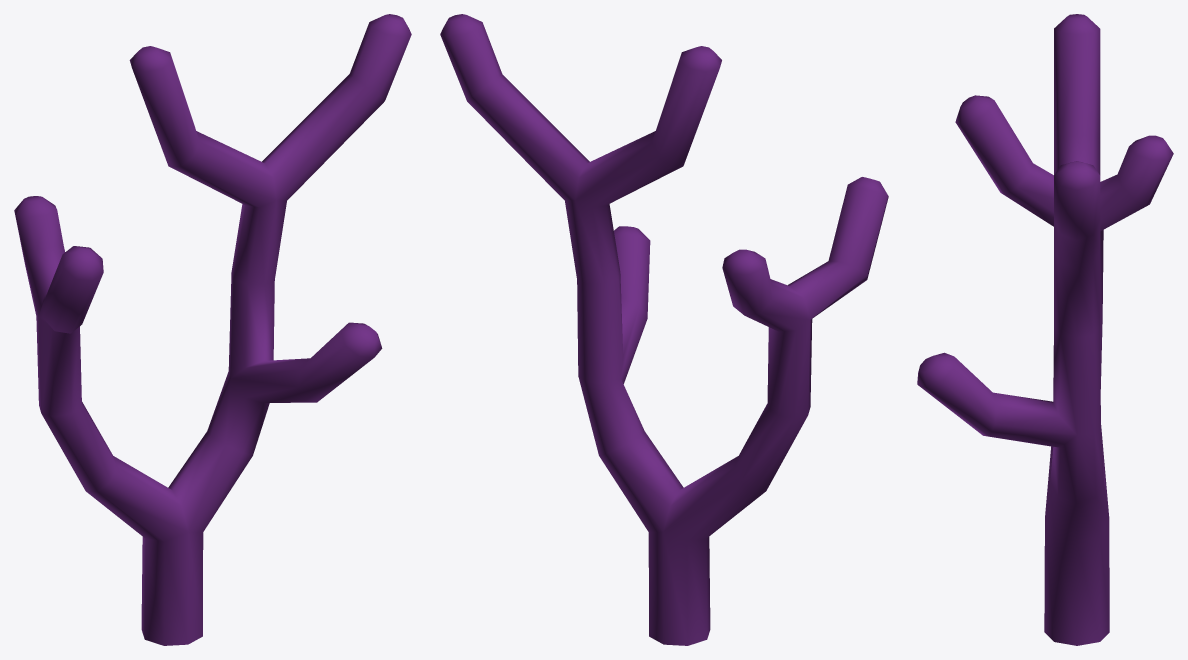
The model's file is Sea_plant_1_1.001.fbx.
3 views of the same model, side by side, from view 1: azimuth 30°, elevation 25°; view 2: azimuth 150°, elevation 25°; view 3: azimuth 270°, elevation 25° (orthographic). The views are drawn at different scales.
Parts seen in each view (by area): view 1: Sea_plant_1_1.001; view 2: Sea_plant_1_1.001; view 3: Sea_plant_1_1.001.
Part boxes in pixels (box(x1,y1,x2,y2)): Sea_plant_1_1.001: box(14, 14, 411, 645); Sea_plant_1_1.001: box(440, 14, 888, 645); Sea_plant_1_1.001: box(917, 14, 1173, 645).
Bounding box in the file's own units: 0.798 × 1.14 × 0.4372.
